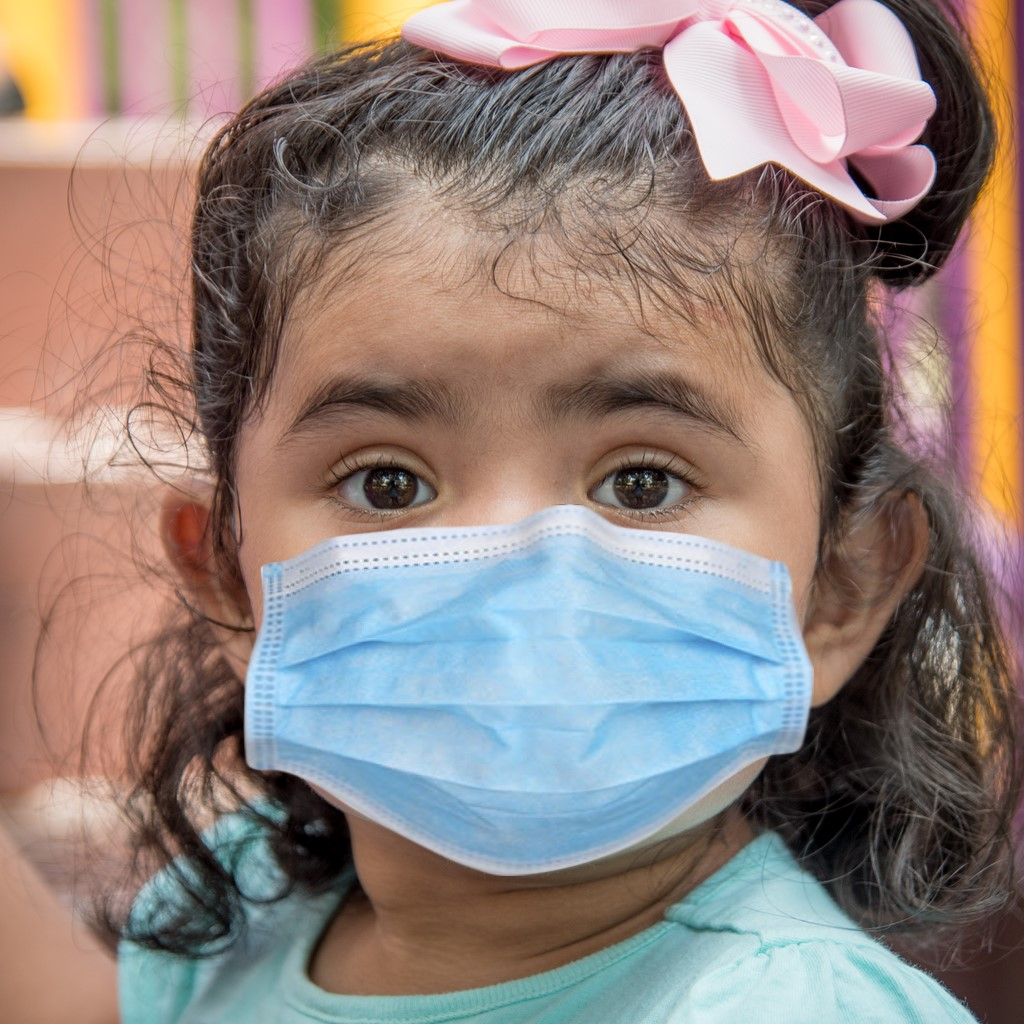con_mascara: (220, 159, 840, 872)
